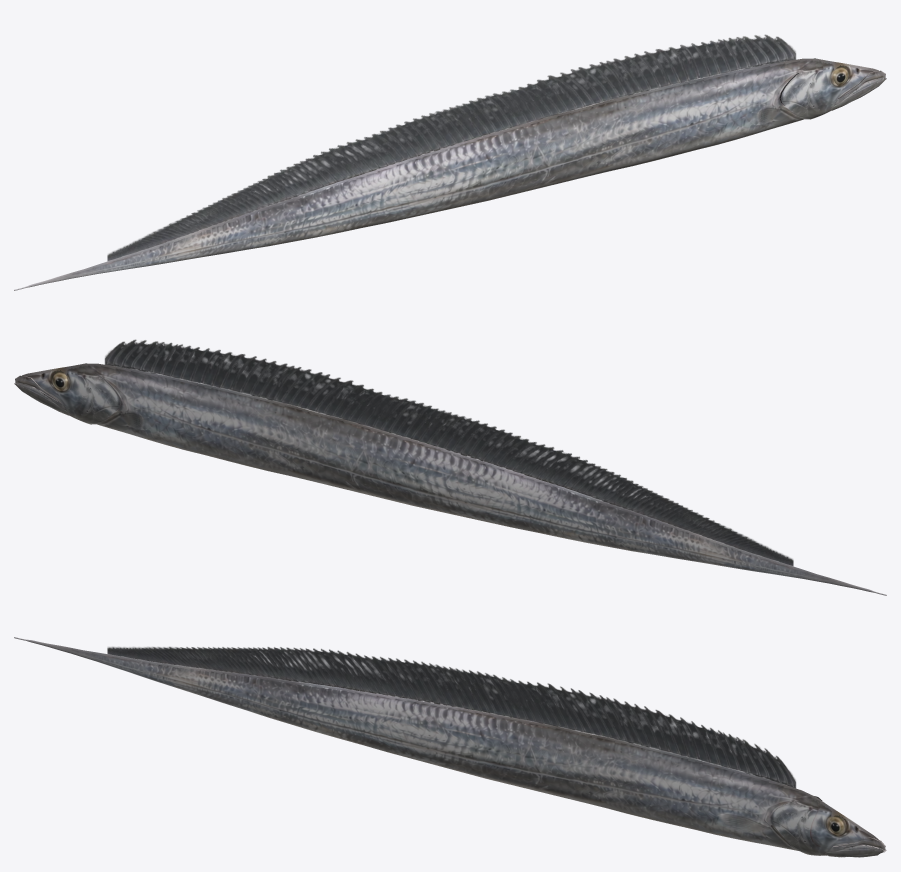
Rendered from tachiuo.glb.
The picture shows the model from 3 angles, top to bottom: view 1: azimuth 30°, elevation 25°; view 2: azimuth 150°, elevation 25°; view 3: azimuth 330°, elevation 25°; orthographic projection.
Visible parts, largest first — view 1: tachiuo; view 2: tachiuo; view 3: tachiuo.
Boxes of the visible parts, x1,y1,x2,y2 form: tachiuo: (14, 34, 886, 290); tachiuo: (14, 339, 886, 595); tachiuo: (14, 637, 886, 857).
Bounding box in the file's own units: 0.9945 × 0.1217 × 0.0794.
Materials: 1 (1 with a texture image).
